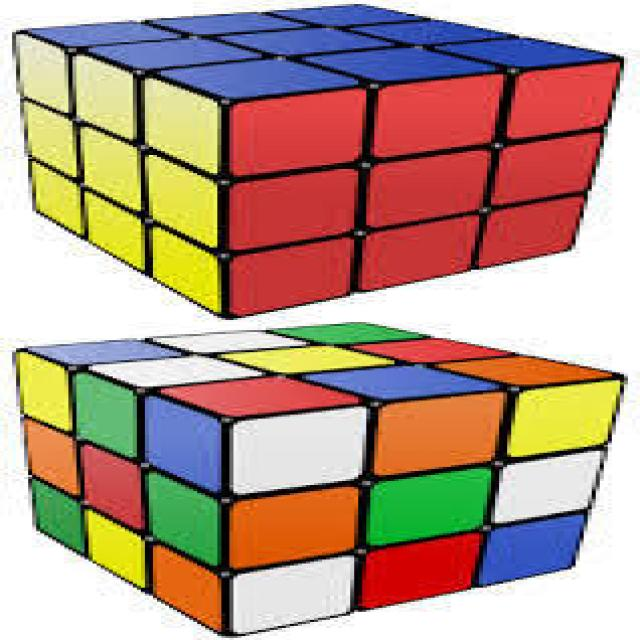Cubo-No-resuelto: (0, 209, 636, 638)
Cubo-Resuelto: (0, 4, 616, 318)
